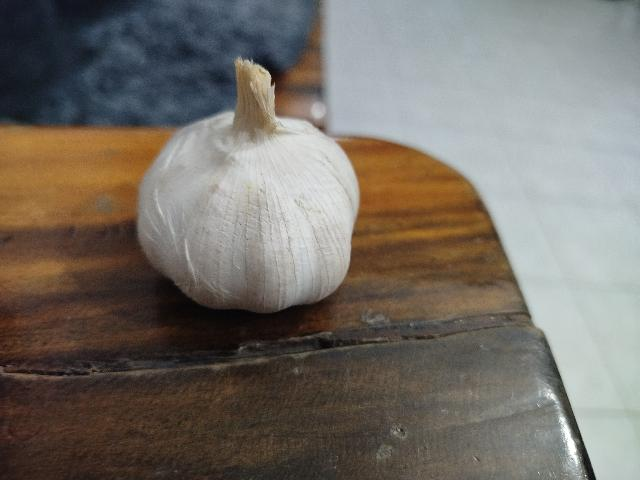garlic: (136, 57, 360, 314)
